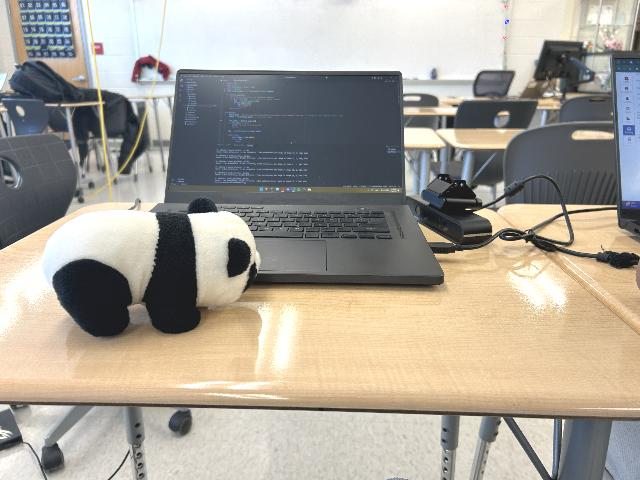panda_plushie: (43, 198, 261, 338)
